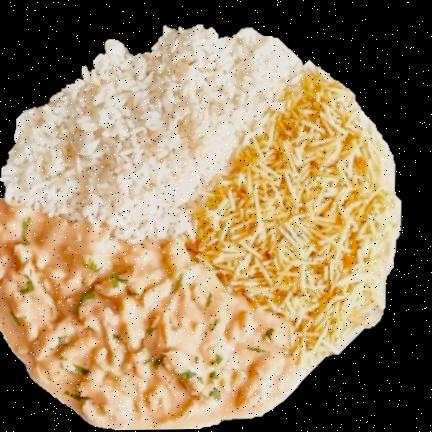chicken: (0, 201, 298, 430)
potato: (189, 70, 399, 366)
rice: (2, 26, 300, 241)
